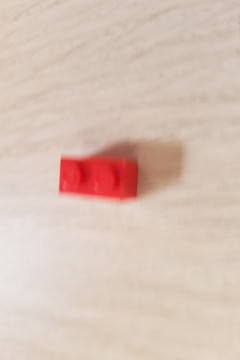1x2 red: (58, 155, 140, 203)
